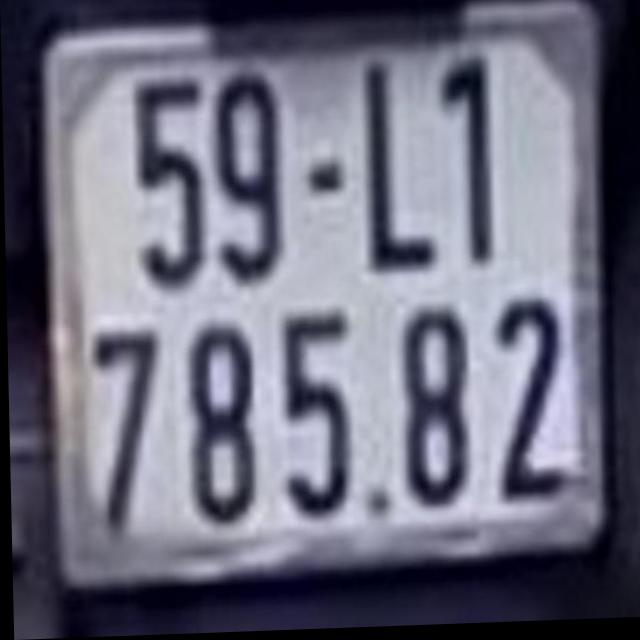1: (443, 60, 495, 270)
2: (493, 296, 566, 508)
5: (129, 74, 207, 285), (282, 309, 352, 520)
7: (87, 328, 163, 536)
8: (401, 309, 470, 511), (188, 322, 254, 525)
9: (213, 71, 290, 285)
L: (358, 61, 443, 279)
